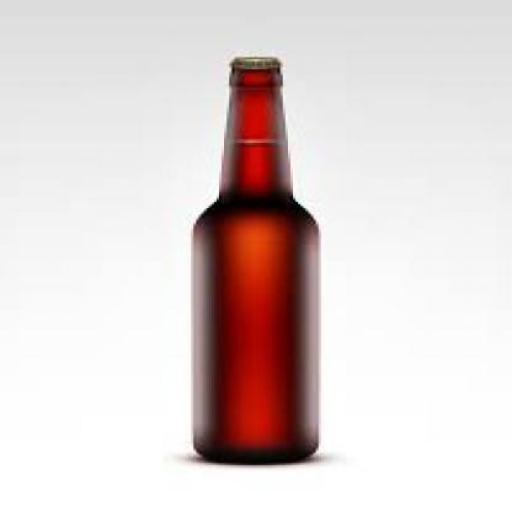glass: (189, 61, 316, 463)
metal: (229, 52, 281, 70)
